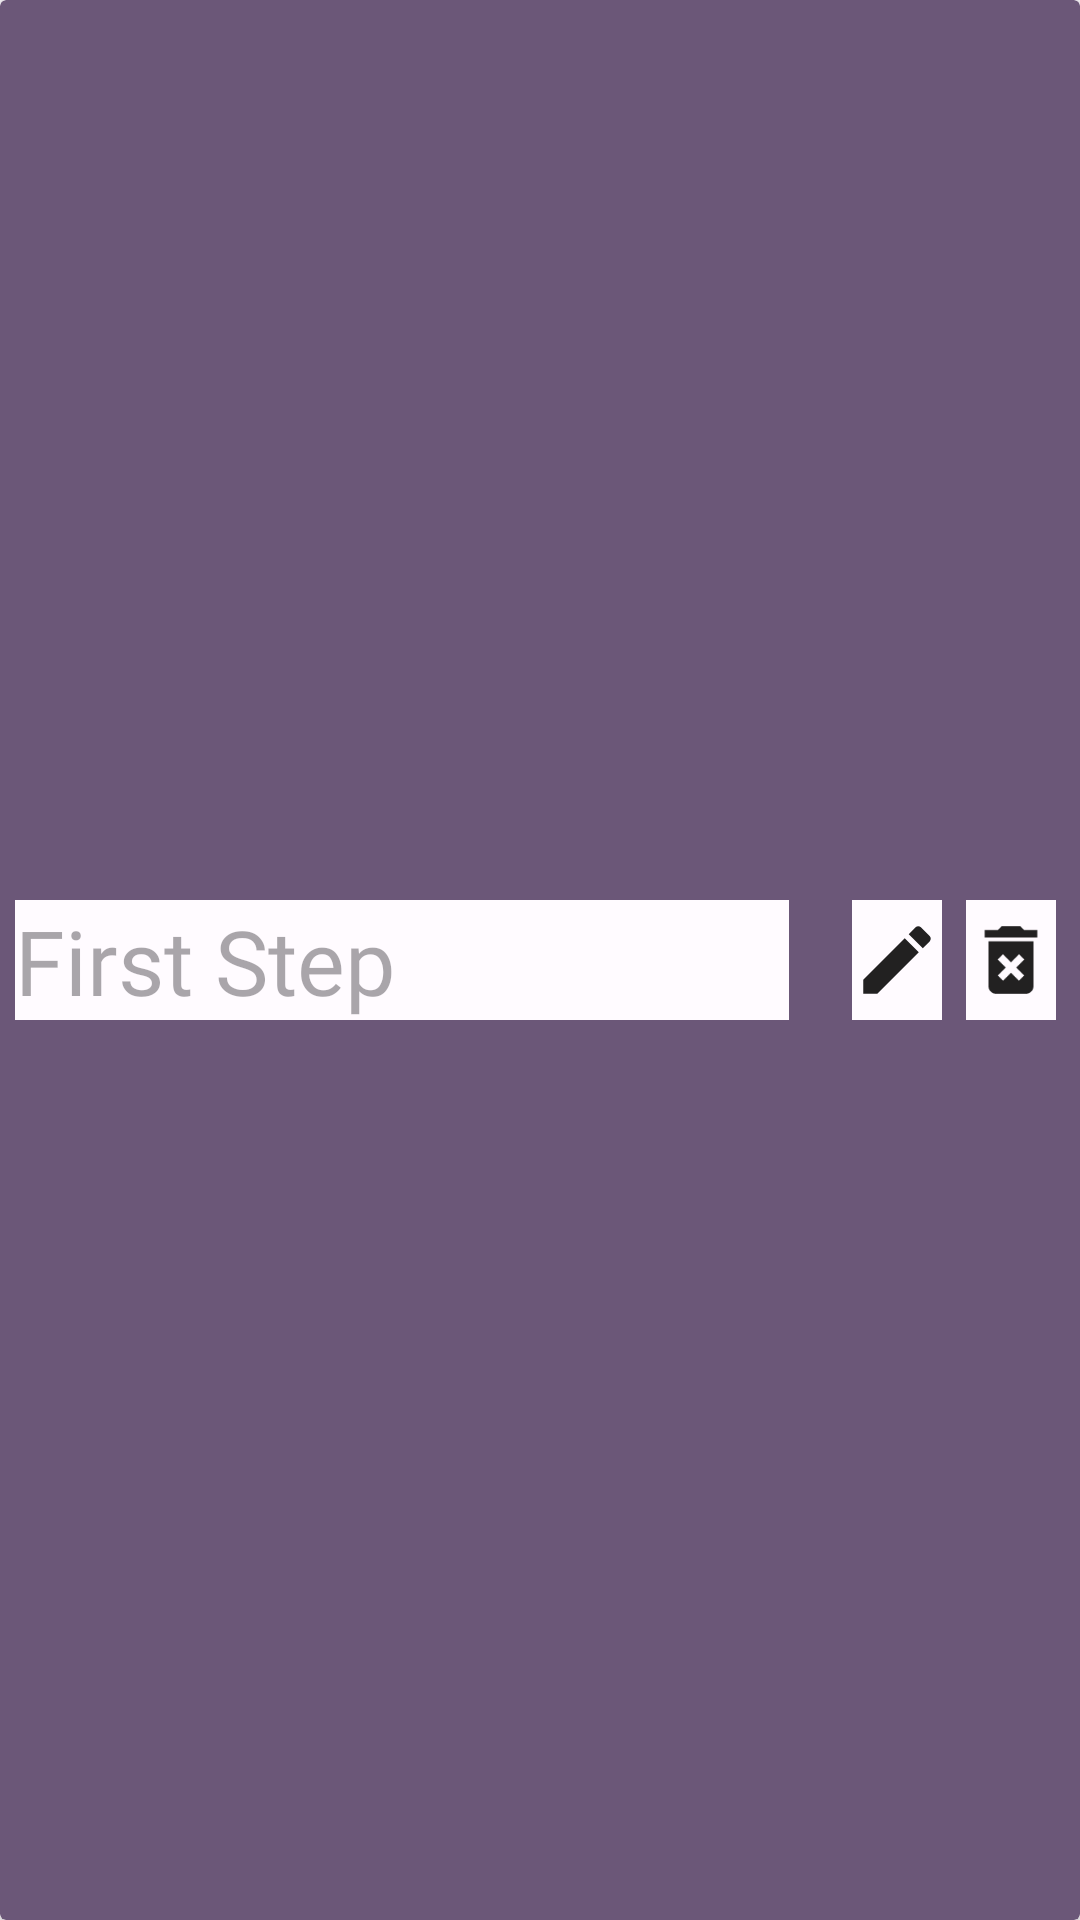

Locate icon controls on the screen. Image size 1080*1920, boxes as (x1, y1, x2, y2).
delete forever: (966, 900, 1056, 1020)
edit: (852, 900, 942, 1020)
